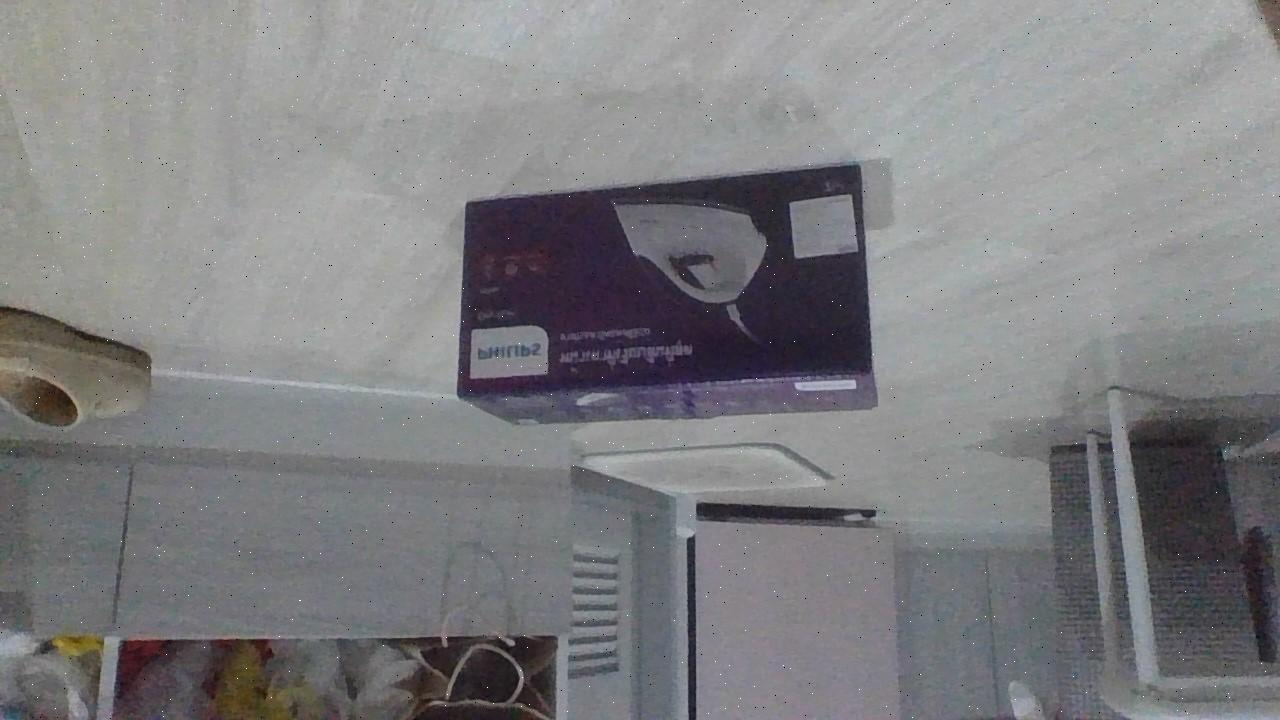IRON: (452, 159, 883, 431)
